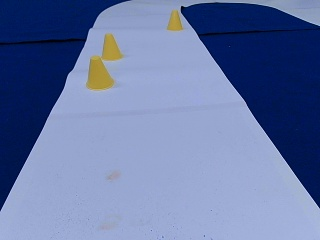cone: (85, 57, 113, 89), (100, 34, 121, 59), (167, 10, 181, 30)
